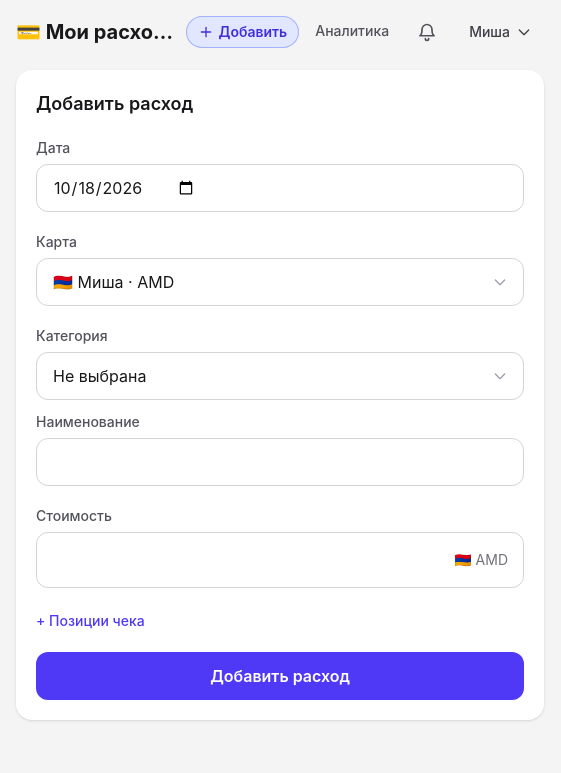
Test case: позиции чека на «Добавить»: карточка и виды › ссылка «+ Позиции чека» сразу открывает редактирование
This screenshot has width=561, height=773.
Expected: the button "Добавить расход" is shown, [36, 652, 524, 700]
Click the button "+ Позиции чека" at [90, 621], box [36, 611, 145, 631]
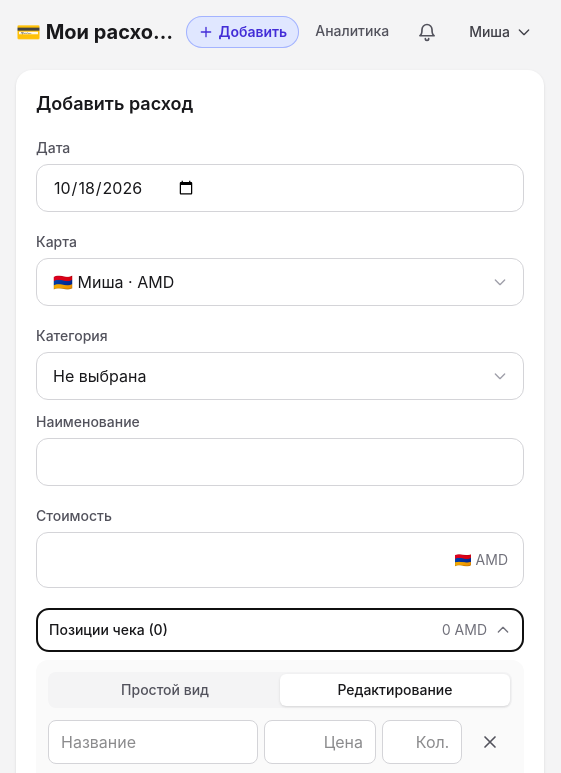
Result: the radio button labelled "Редактирование" is checked at [280, 674, 510, 706]
Result: the field named "Название позиции 1" is shown at [48, 720, 258, 764]
